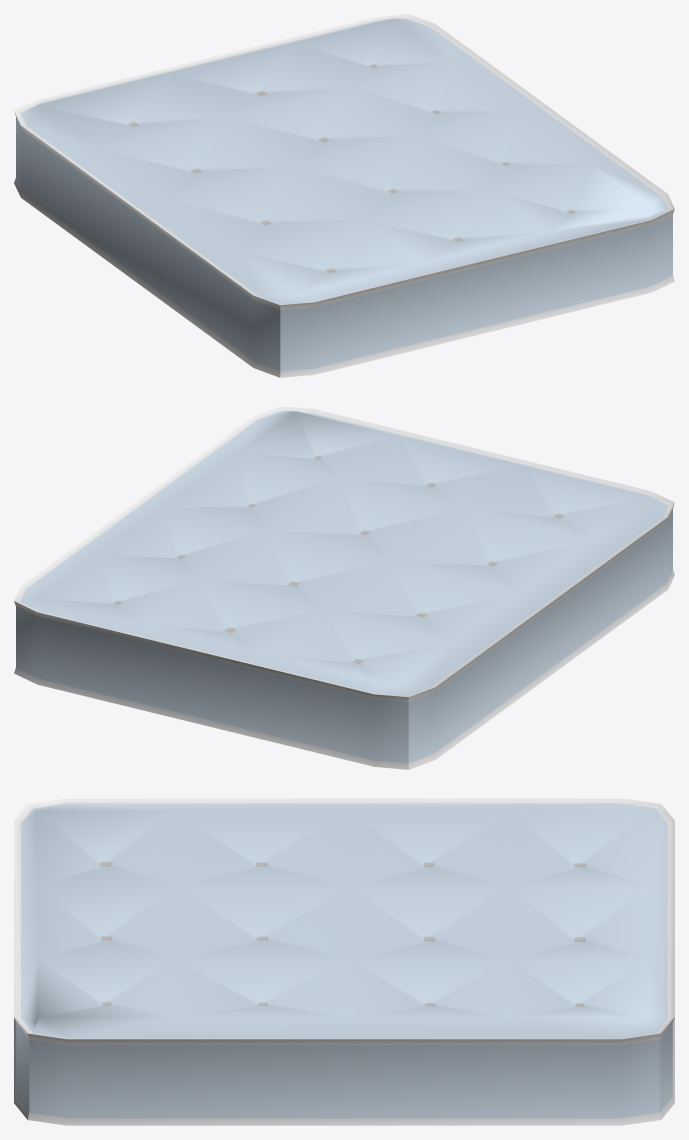
Rendered from matress.fbx.
The picture shows the model from 3 angles, top to bottom: view 1: azimuth 30°, elevation 25°; view 2: azimuth 150°, elevation 25°; view 3: azimuth 270°, elevation 25°; orthographic projection. The views are drawn at different scales.
Visible parts, largest first — view 1: mattress; view 2: mattress; view 3: mattress.
Part boxes in pixels (x1,y1,x2,y2): mattress: (14, 14, 674, 377); mattress: (14, 406, 674, 769); mattress: (14, 798, 674, 1125).
Bounding box in the file's own units: 92.67 × 16.25 × 107.
